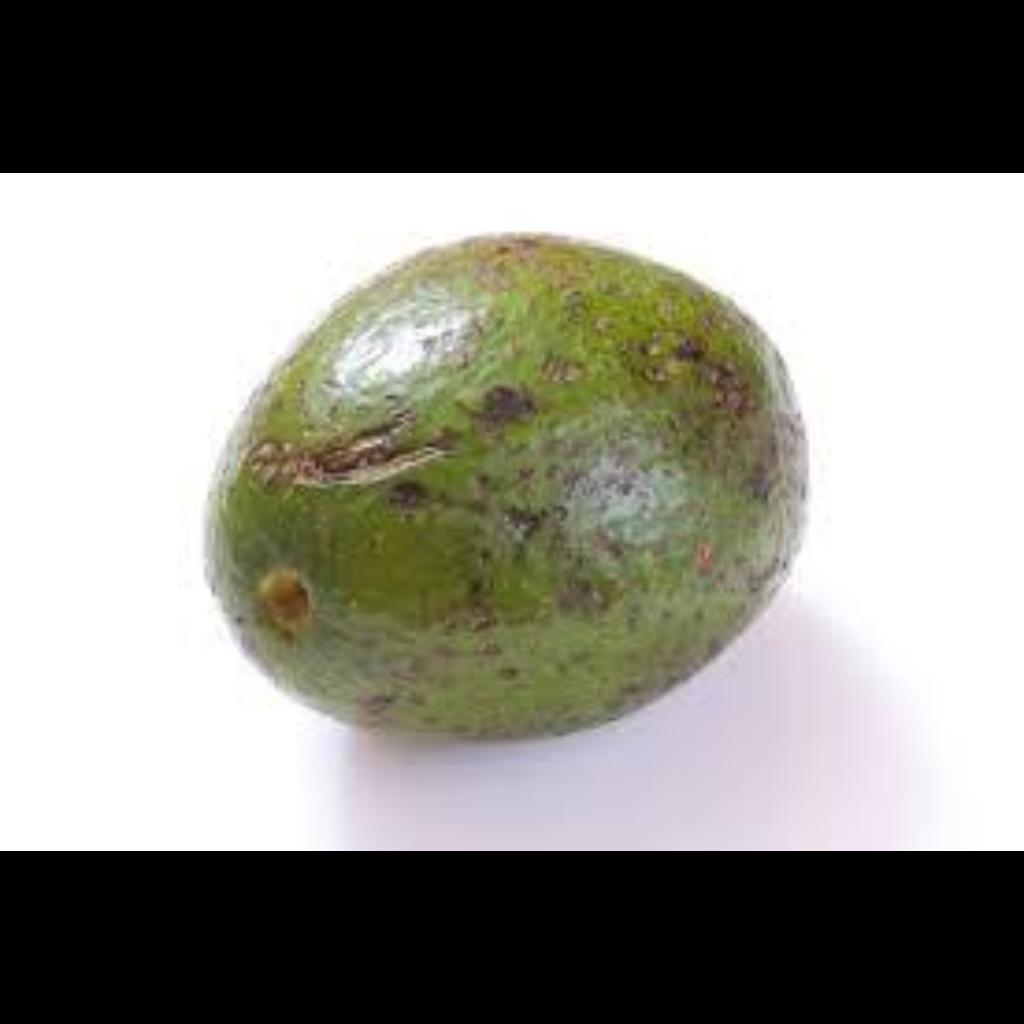cercospora_spot: (198, 234, 822, 750)
